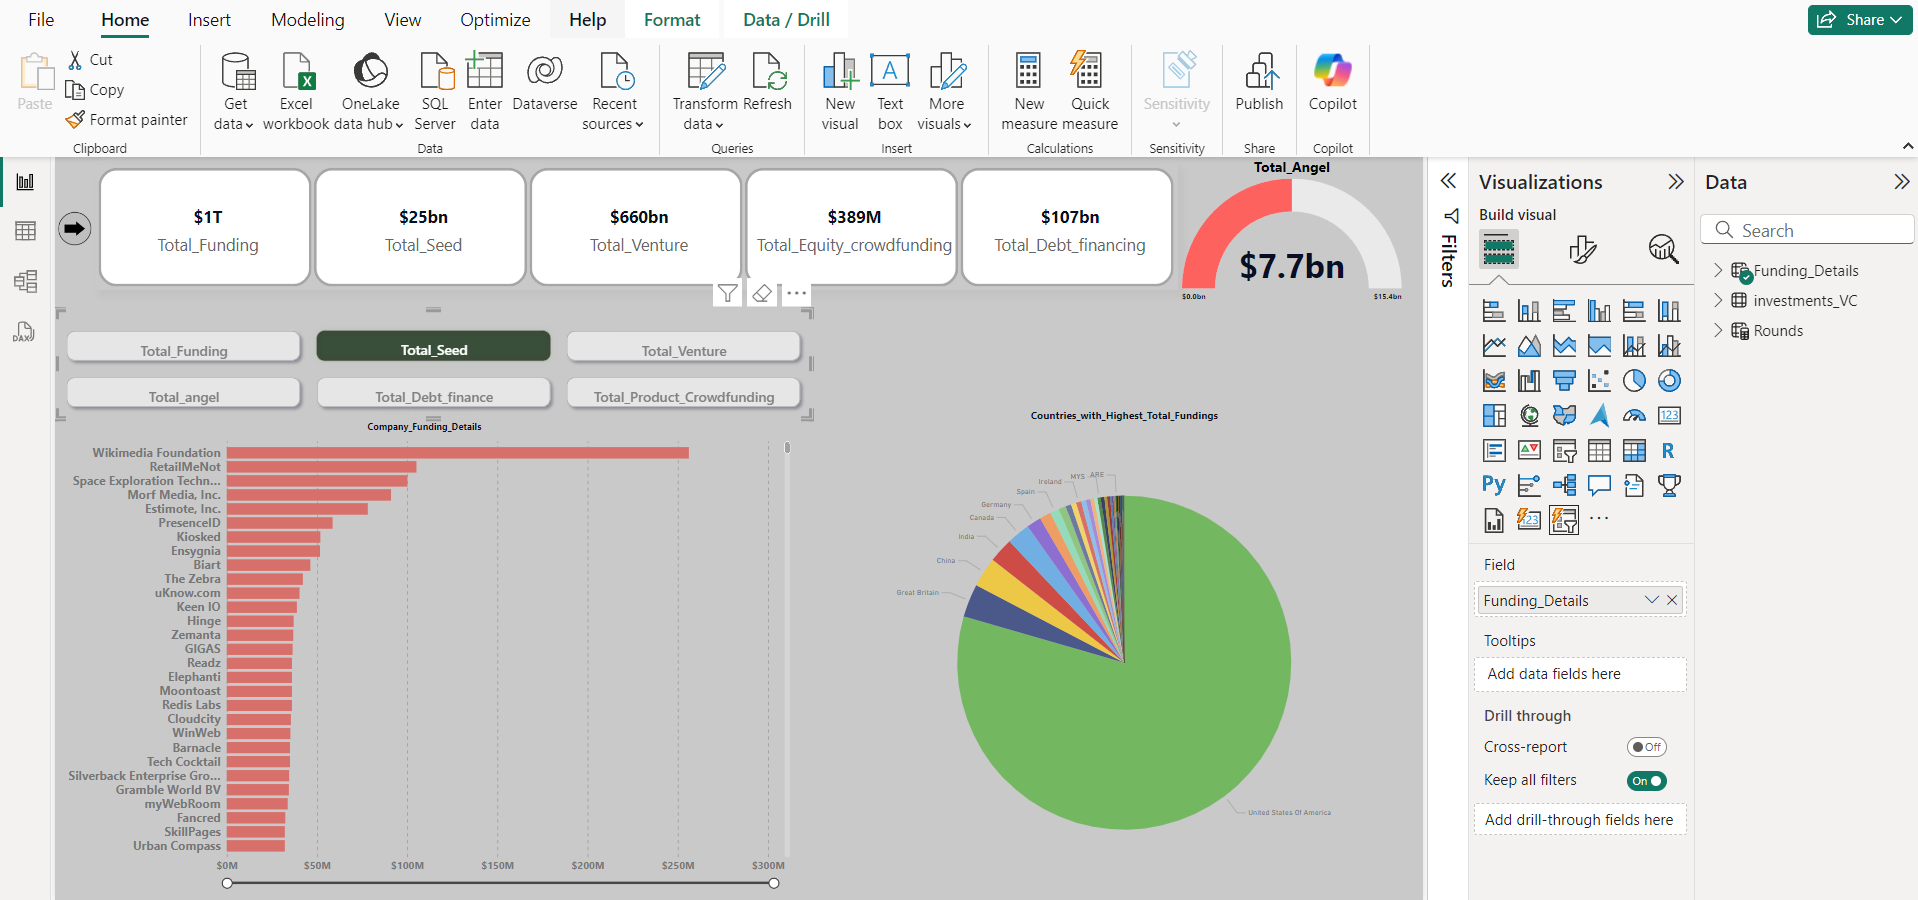

Layout of this report page (visuals, bound fields, positions):
{"tool":"powerbi","page":{"name":"Page 1","canvas":[1980,1080],"ordinal":0},"visuals":[{"type":"cardVisual","fields":{"Data":["investments_VC.Total_Funding","Sum(investments_VC.Seed)","Sum(investments_VC.Venture)","Sum(investments_VC.Equity_crowdfunding)","Sum(investments_VC.Debt_financing)"]},"box":[57.5,10,1567.5,182.5],"z":0},{"type":"gauge","title":"Total_Angel","fields":{"Y":["Sum(investments_VC.angel)"]},"box":[1602.4,0,378.6,219],"z":1000},{"type":"barChart","title":"Company_Funding_Details","fields":{"Y":["investments_VC.Total_Funding"],"Category":["investments_VC.Company_name"]},"box":[0,360.1,1069.5,702.1],"z":2000},{"type":"advancedSlicerVisual","fields":{"Values":["Funding_Details.Funding_Details"]},"box":[0,218.6,1097.4,161.3],"z":3000},{"type":"pieChart","fields":{"Category":["investments_VC.Country_name"],"Y":["investments_VC.Total_Funding"]},"box":[1116.6,342,863.2,738.3],"z":4000},{"type":"image","box":[0,62.5,57.5,80],"z":5000}]}

Visuals, with their boxes on the page's 1980x1080 design canvas (x1, y1, x2, y2). These are canvas units, not pixel positions in the 1918x900 screenshot, which may show the page scaled, cropped or inside an application window:
cardVisual - investments_VC.Total_Funding x Sum(investments_VC.Seed): locate(58, 10, 1625, 192)
"Total_Angel" gauge: locate(1602, 0, 1981, 219)
"Company_Funding_Details" barChart: locate(0, 360, 1070, 1062)
advancedSlicerVisual - Funding_Details.Funding_Details: locate(0, 219, 1097, 380)
pieChart - investments_VC.Country_name x investments_VC.Total_Funding: locate(1117, 342, 1980, 1080)
image: locate(0, 62, 58, 142)
